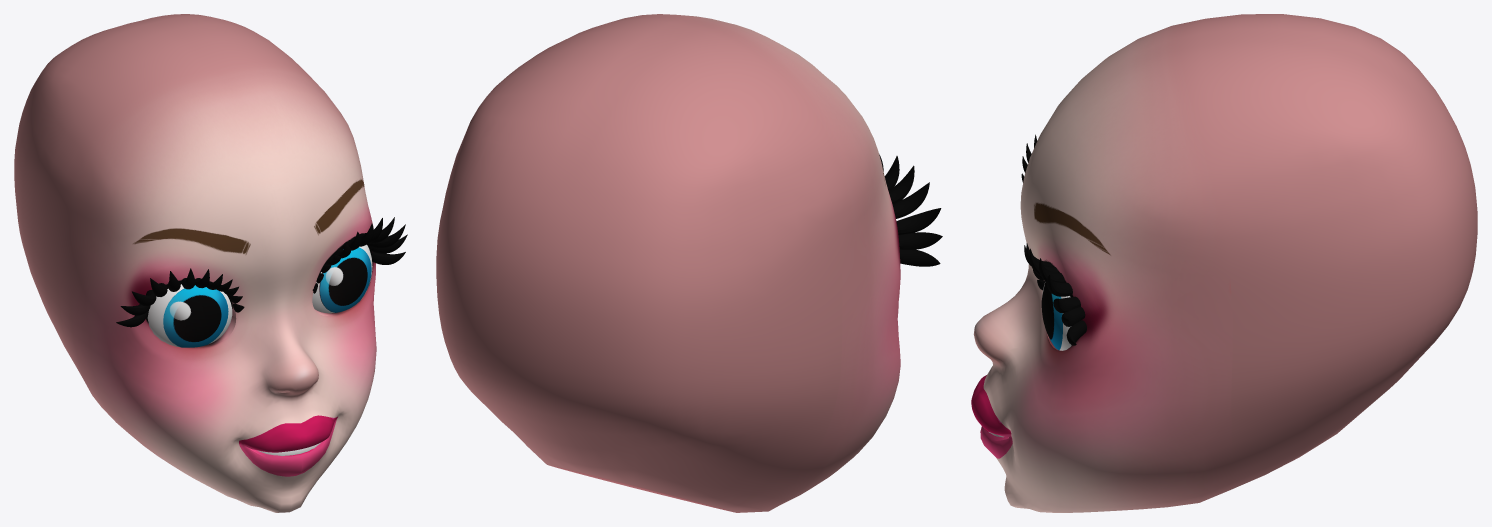
File: doll.fbx
The picture shows the model from 3 angles, left to right: view 1: azimuth 30°, elevation 25°; view 2: azimuth 150°, elevation 25°; view 3: azimuth 270°, elevation 25°; orthographic projection. The views are drawn at different scales.
Visible parts, largest first — view 1: Doll_face; view 2: Doll_face; view 3: Doll_face.
Boxes of the visible parts, left/top/right/bottom form: Doll_face: left=14, top=14, right=407, bottom=512; Doll_face: left=436, top=14, right=942, bottom=512; Doll_face: left=971, top=14, right=1477, bottom=512.
Size of the model in its own units: 2.08 by 2.74 by 2.68.
1 material, 1 textured.
